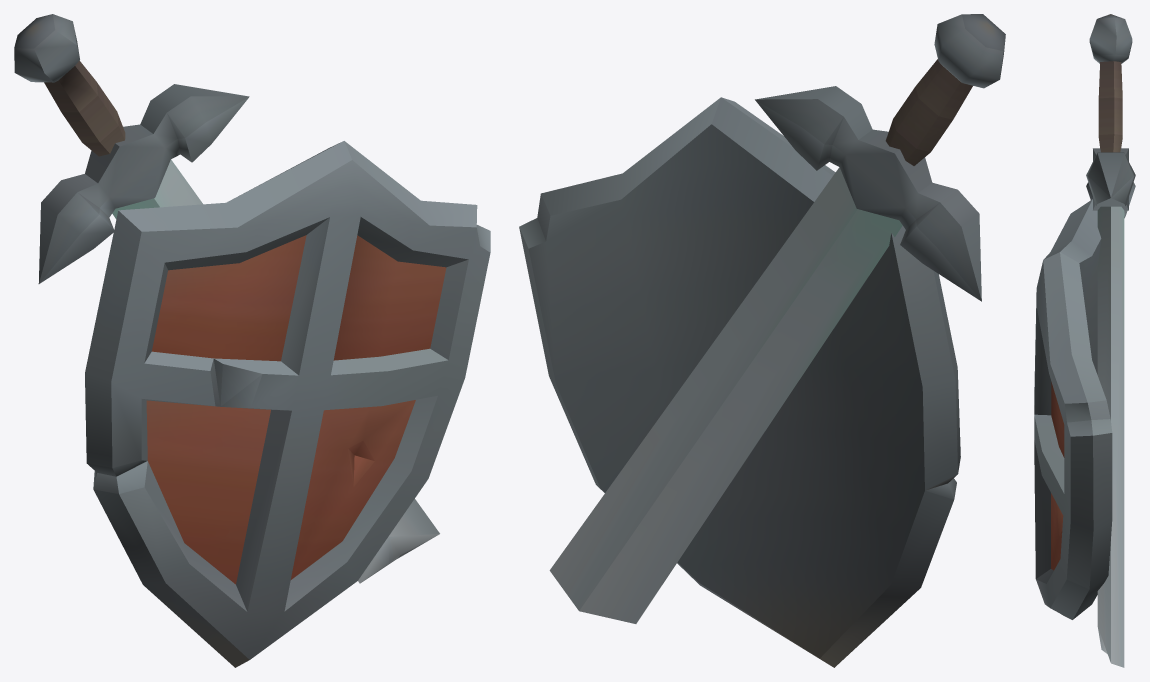
File: kay-espada-escudo-quebrados.gltf
3 renders of one model, left to right at view 1: azimuth 30°, elevation 25°; view 2: azimuth 150°, elevation 25°; view 3: azimuth 270°, elevation 25°, orthographic. The views are drawn at different scales.
Visible parts, largest first — view 1: sword_shield_broken; view 2: sword_shield_broken; view 3: sword_shield_broken.
Part boxes in pixels (left/top/right/bottom): sword_shield_broken: left=14, top=14, right=490, bottom=667; sword_shield_broken: left=519, top=14, right=1005, bottom=667; sword_shield_broken: left=1034, top=14, right=1135, bottom=667.
Size of the model in its own units: 0.9267 by 1.28 by 0.2181.
Materials: 1 (1 with a texture image).
